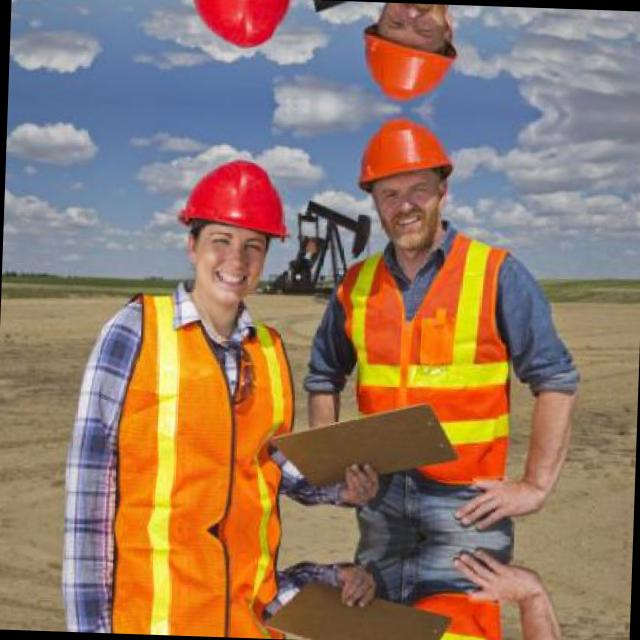helmet: (164, 135, 294, 326), (344, 106, 466, 259), (349, 1, 471, 113), (173, 0, 300, 71)
